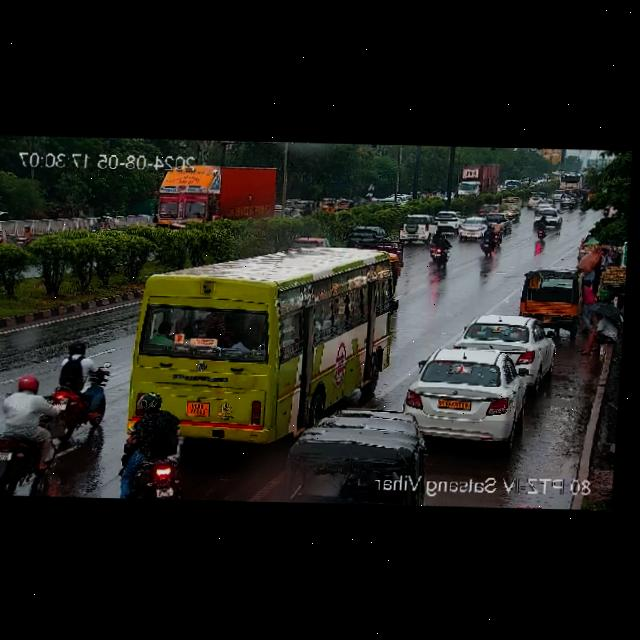bus: (120, 233, 405, 464)
car: (399, 343, 540, 444), (450, 313, 557, 386), (455, 216, 487, 239), (431, 210, 459, 229), (533, 208, 559, 219)
motorcycle: (0, 373, 68, 496), (118, 391, 186, 499), (52, 337, 112, 436), (428, 224, 454, 271), (479, 219, 507, 256), (14, 225, 34, 248), (535, 213, 549, 239), (89, 216, 111, 230)
person: (575, 310, 623, 355)
truck: (151, 160, 281, 230), (451, 161, 501, 200), (396, 214, 437, 245), (343, 225, 389, 247)
